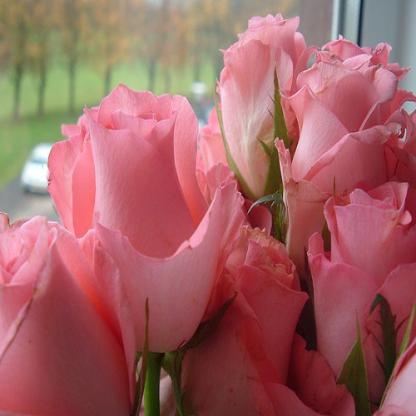ROSE-MAWAR: (1, 11, 409, 416)
